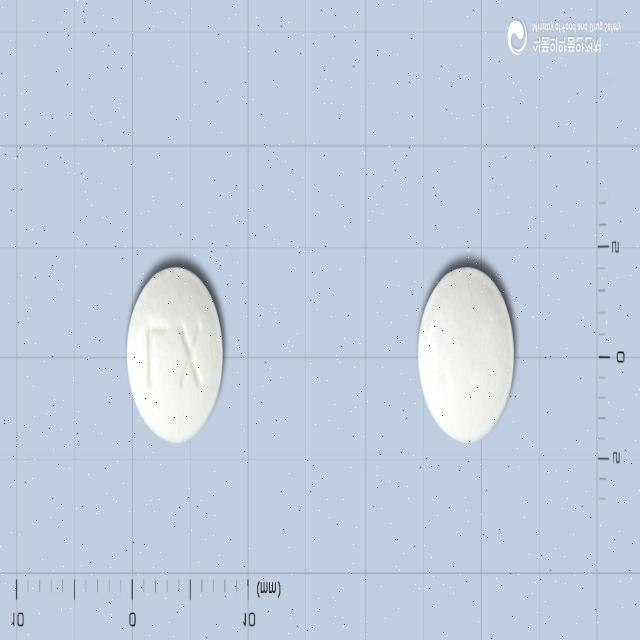Levoxacin -250mg: (127, 266, 224, 444)
